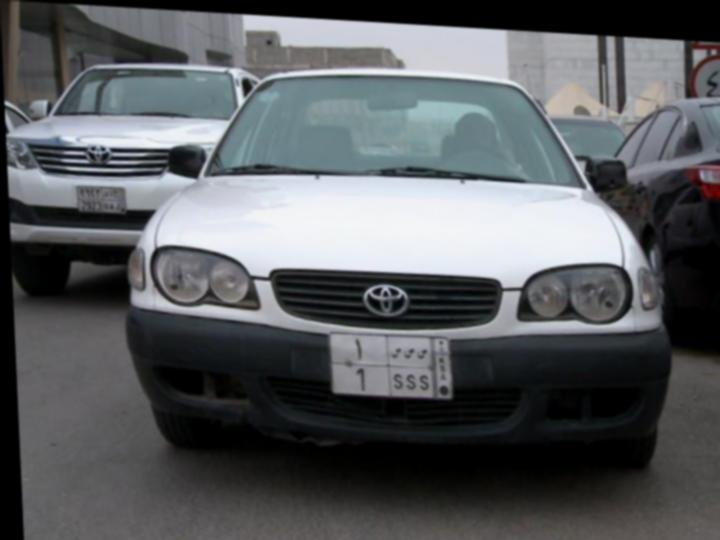License_Plate: (325, 327, 459, 404)
